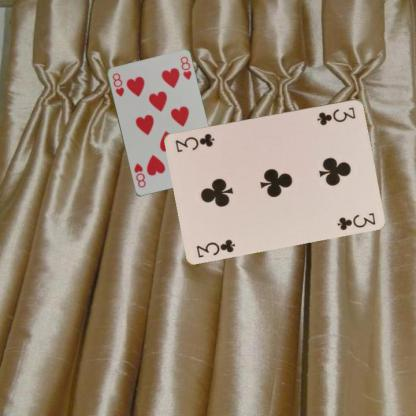3c: (193, 236, 237, 259), (314, 104, 357, 127)
8h: (110, 70, 125, 98)
